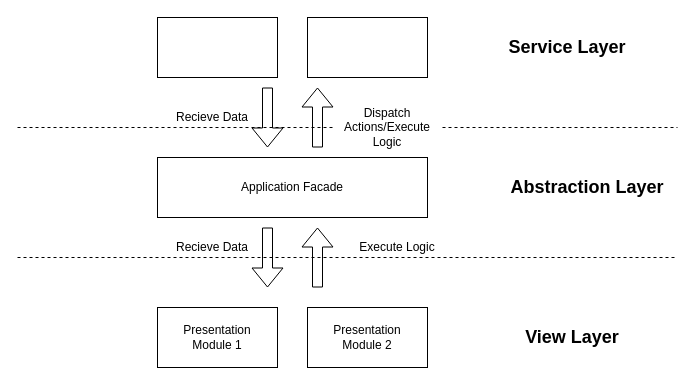
This 696x385 diagram has some shape labels left out. The box of each missing label's shape, as (x1, y1, x2, y2) in pixels:
Async Services: (306, 16, 428, 78)
State Management: (156, 16, 278, 78)
